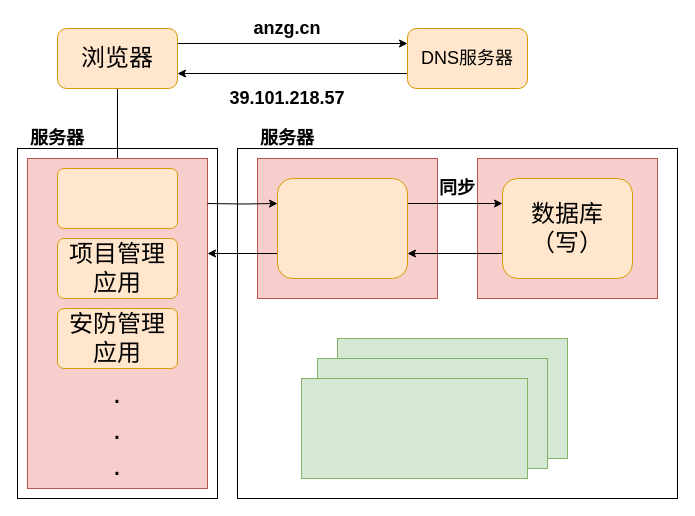
Image size: 695x516. Some labels were removed from this diagram. Each missing label, with the centre of its shape:
分布式缓存: the point at 414,428
数据库（读）: the point at 342,228
智慧乡村应用: the point at 117,198
